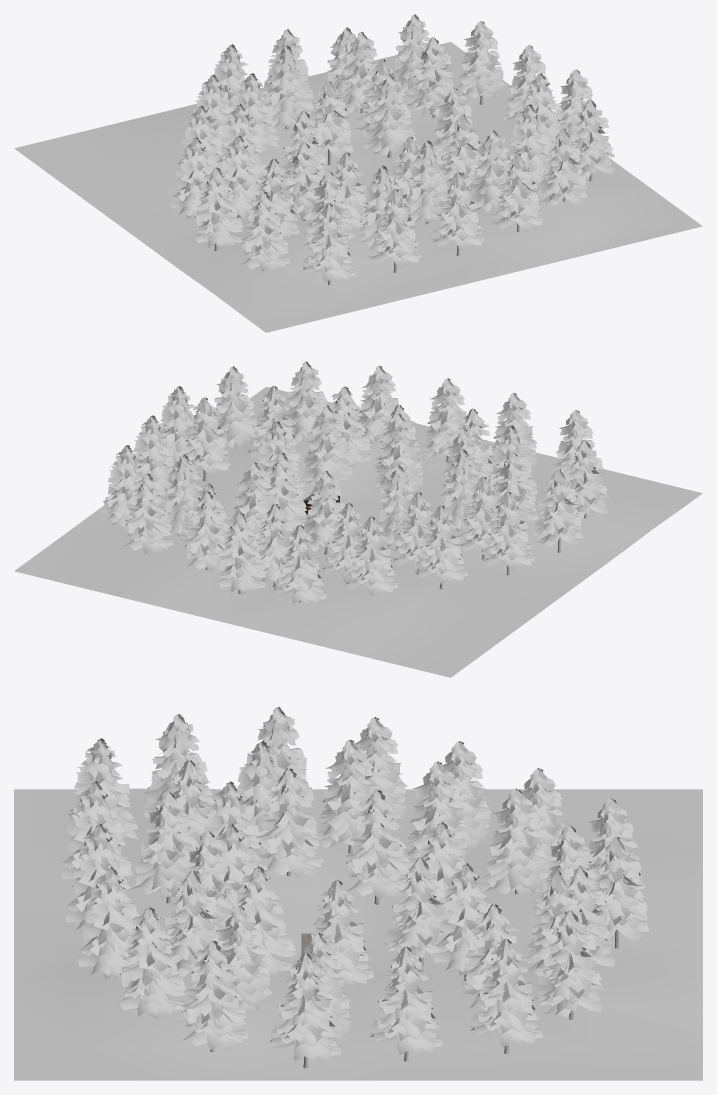
File: game-scene.fbx
3 views of the same model, one above another, from view 1: azimuth 30°, elevation 25°; view 2: azimuth 150°, elevation 25°; view 3: azimuth 270°, elevation 25° (orthographic). The views are drawn at different scales.
Visible parts, largest first — view 1: Object_4.001, Object_6.001; view 2: Object_4.001, Object_6.001; view 3: Object_4.001, Object_6.001.
Boxes of the visible parts, x1,y1,x2,y2 form: Object_4.001: [171, 14, 614, 285]; Object_6.001: [14, 42, 702, 332]; Object_4.001: [102, 361, 609, 603]; Object_6.001: [14, 386, 702, 677]; Object_4.001: [61, 707, 649, 1068]; Object_6.001: [14, 788, 702, 1080].
Bounding box in the file's own units: 54.55 × 54.32 × 10.48.
